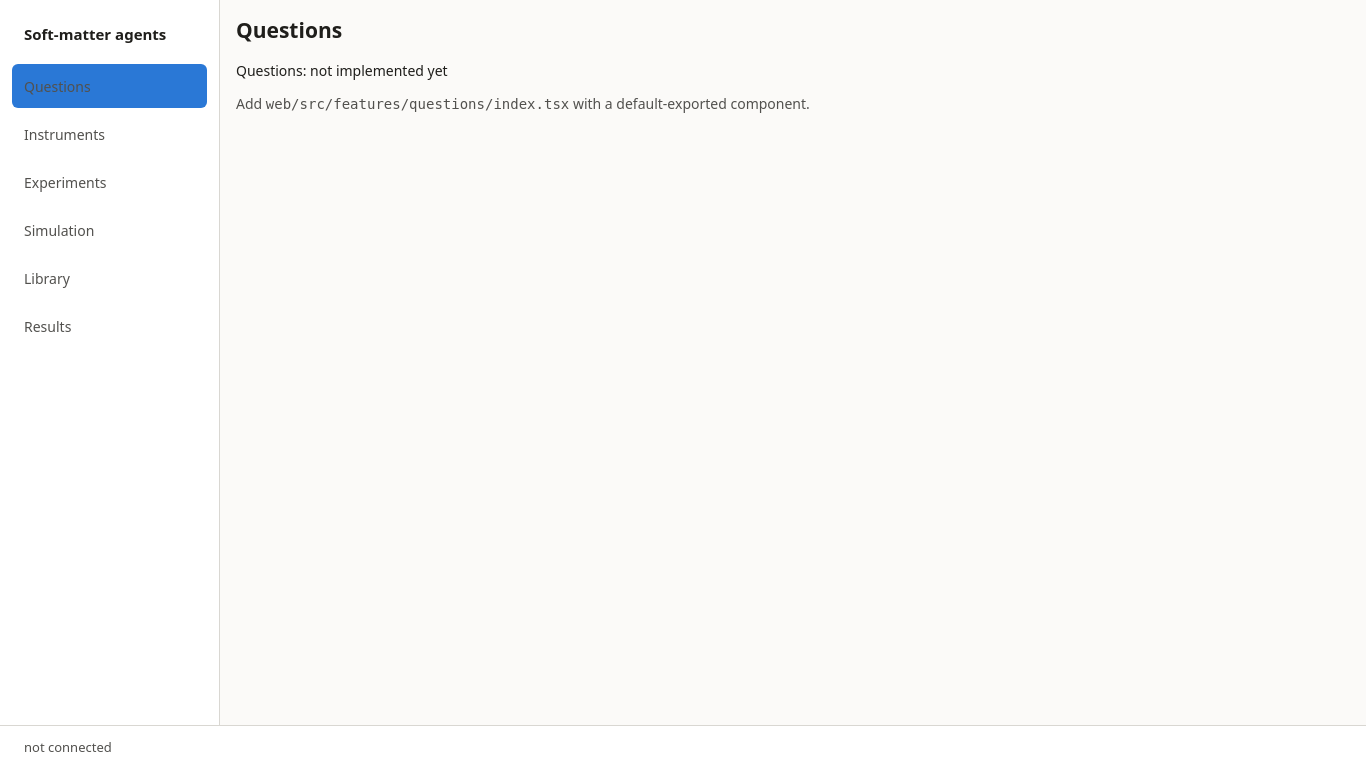
Shell › switches area from the navigation and updates the hash
Click the link "Library": x=47, y=278 [24,268,70,288]
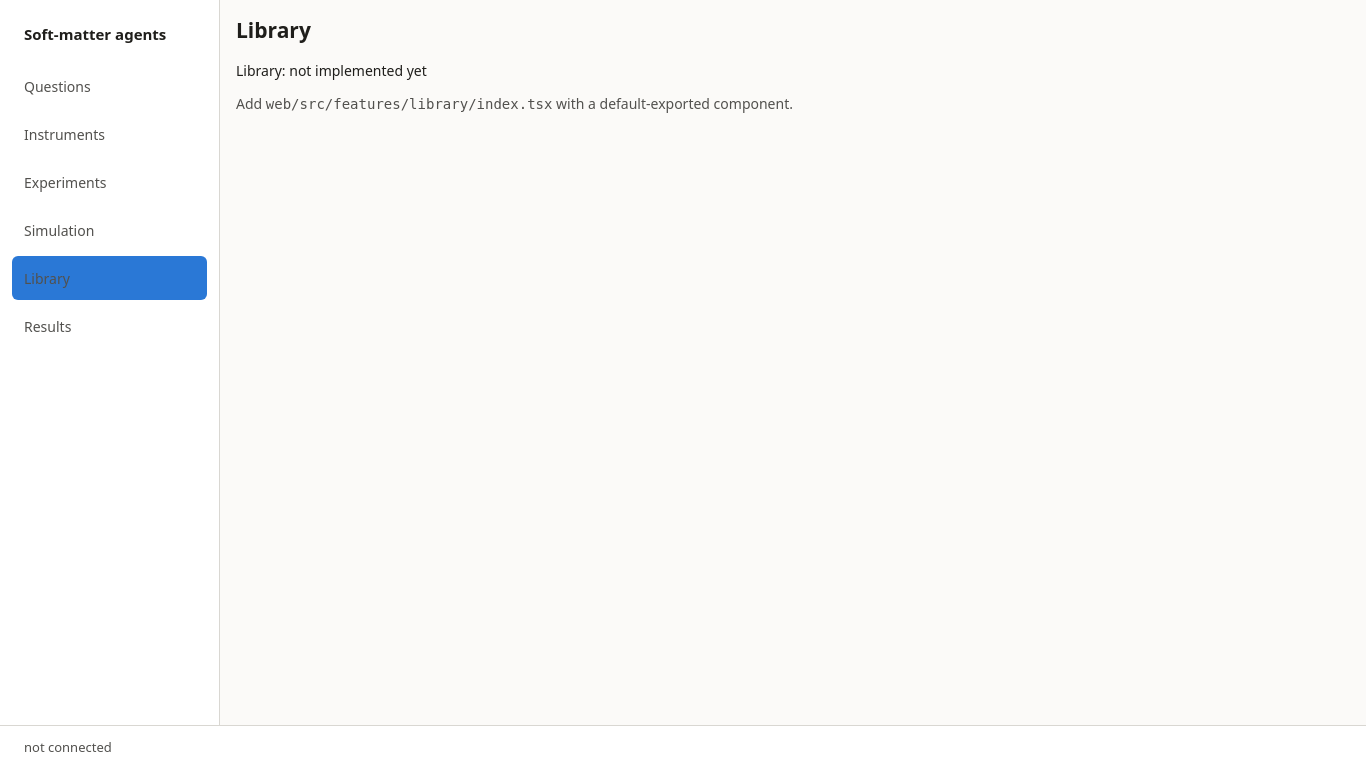
Now the text "Library: not implemented yet" is shown, box [236,61,427,80]
